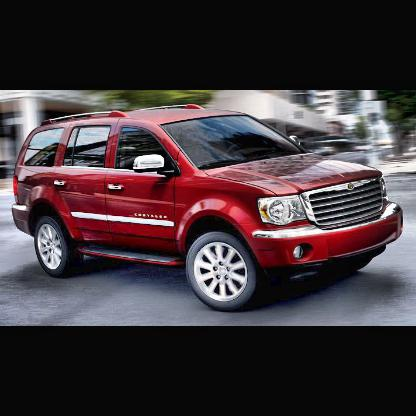Chrysler Aspen SUV 2009: (13, 104, 405, 313)
